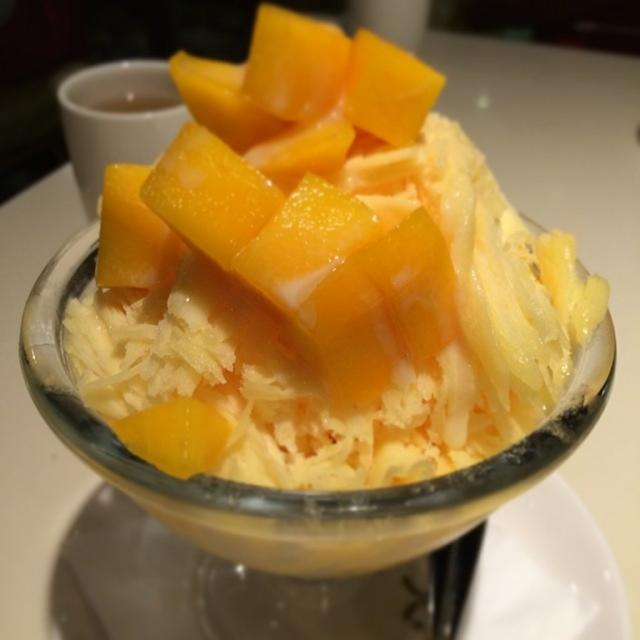Mango: (94, 5, 457, 414), (123, 129, 295, 252), (234, 2, 347, 127), (113, 400, 223, 478)
